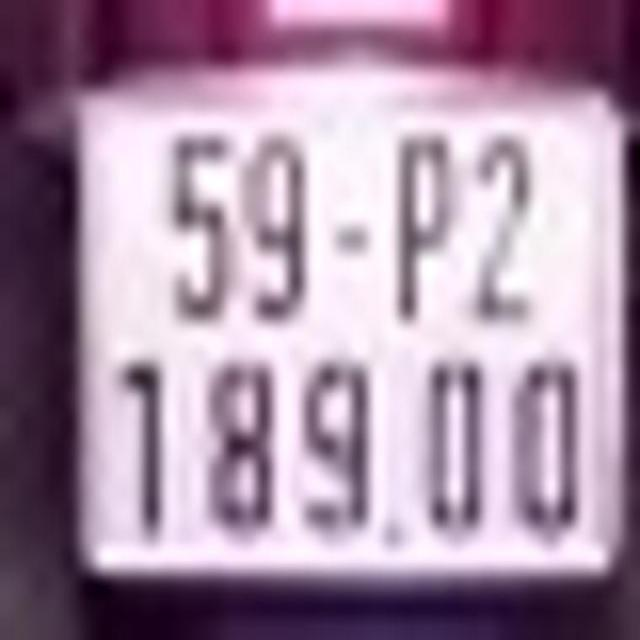0: (511, 354, 580, 544), (424, 352, 487, 540)
1: (122, 358, 162, 540)
2: (472, 132, 535, 324)
5: (168, 135, 230, 320)
8: (203, 355, 274, 535)
9: (295, 354, 373, 541), (241, 134, 306, 323)
P: (391, 130, 458, 325)
